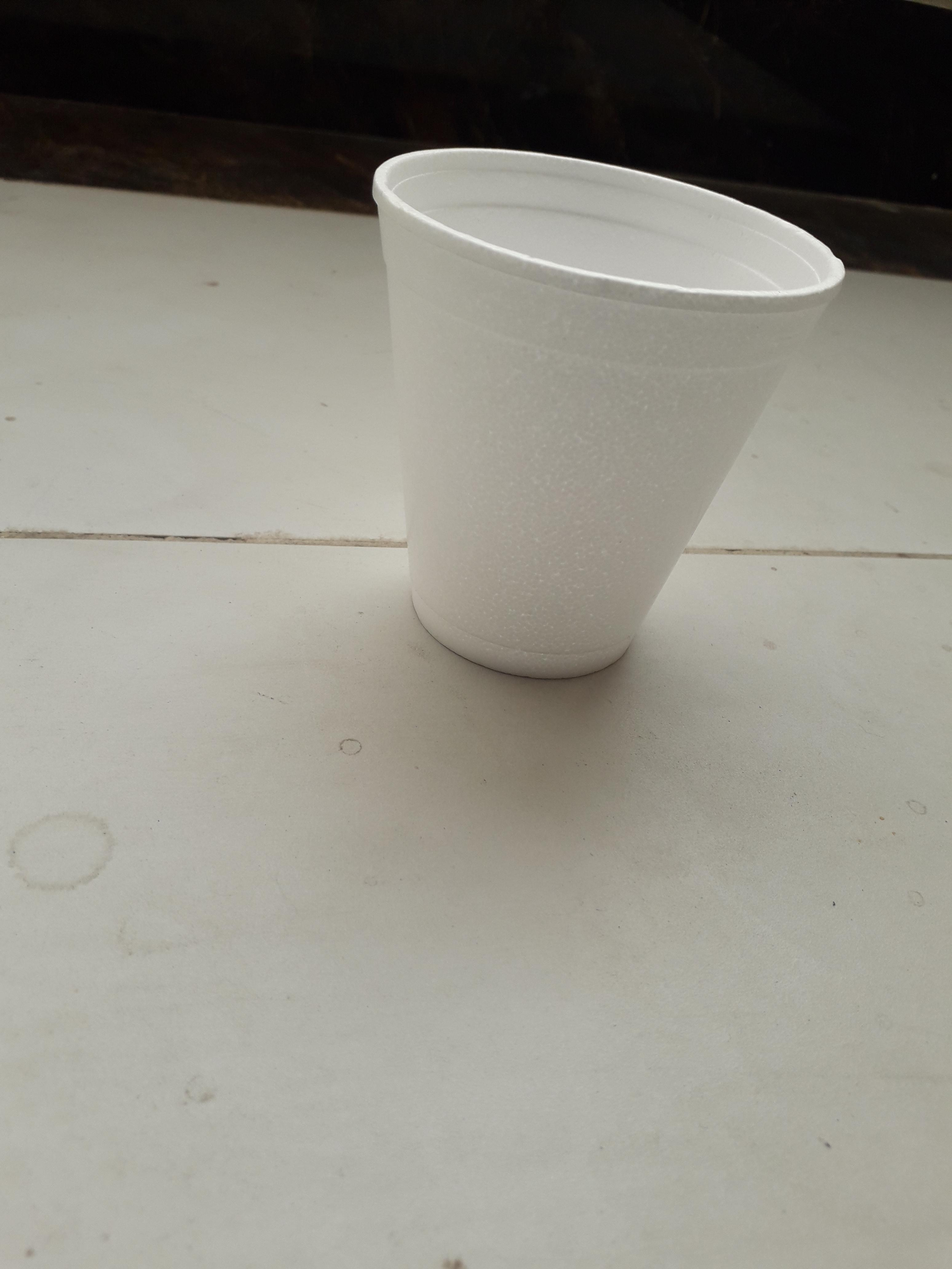cup-disposable: (365, 140, 845, 679)
